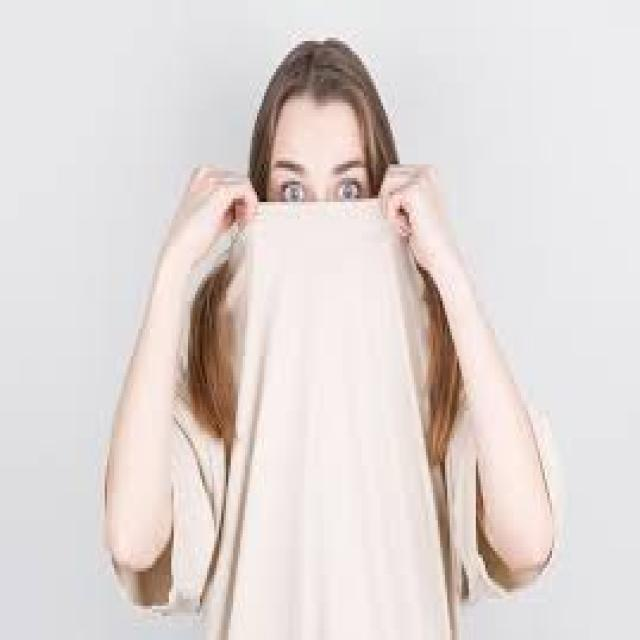8_ropa_rostro: (184, 175, 434, 414)
